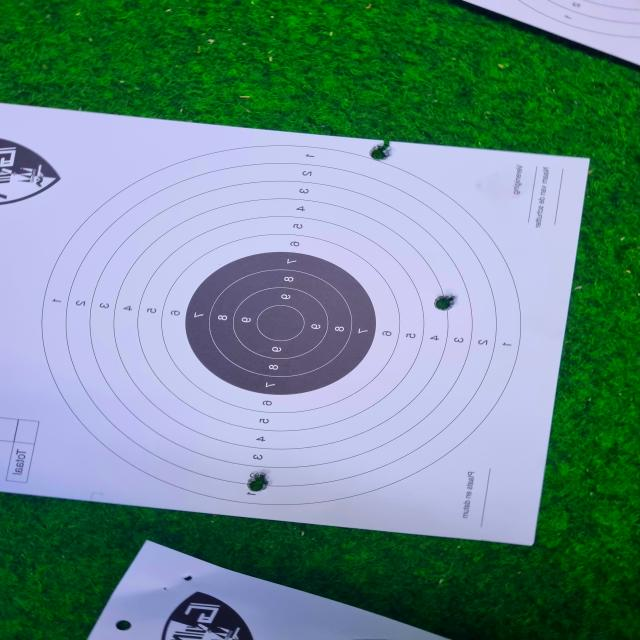0: (369, 144, 391, 162)
2: (247, 473, 270, 492)
4: (434, 294, 457, 310)
Target: (41, 144, 522, 506)
black_contour: (184, 252, 377, 396)
